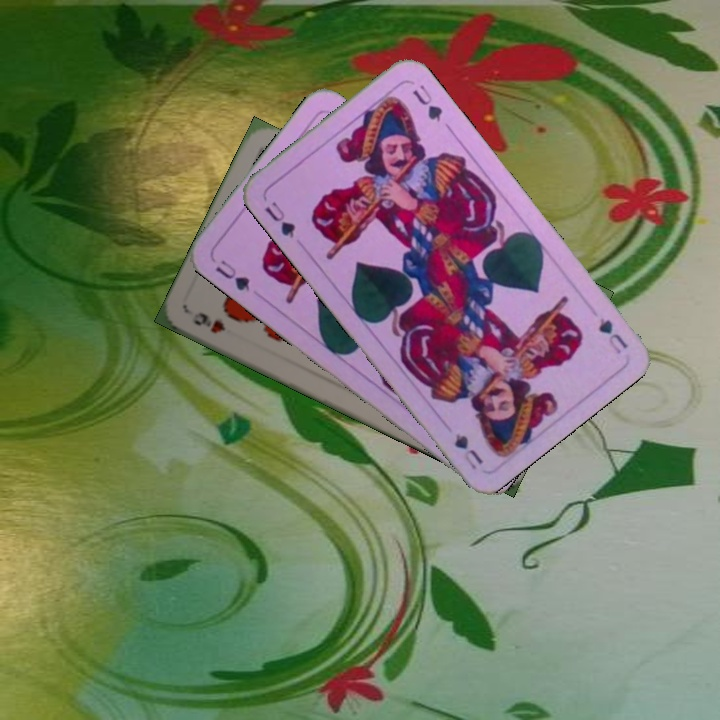GU: (260, 197, 301, 241), (211, 256, 253, 294), (594, 314, 631, 357)
H9: (189, 308, 228, 336)
